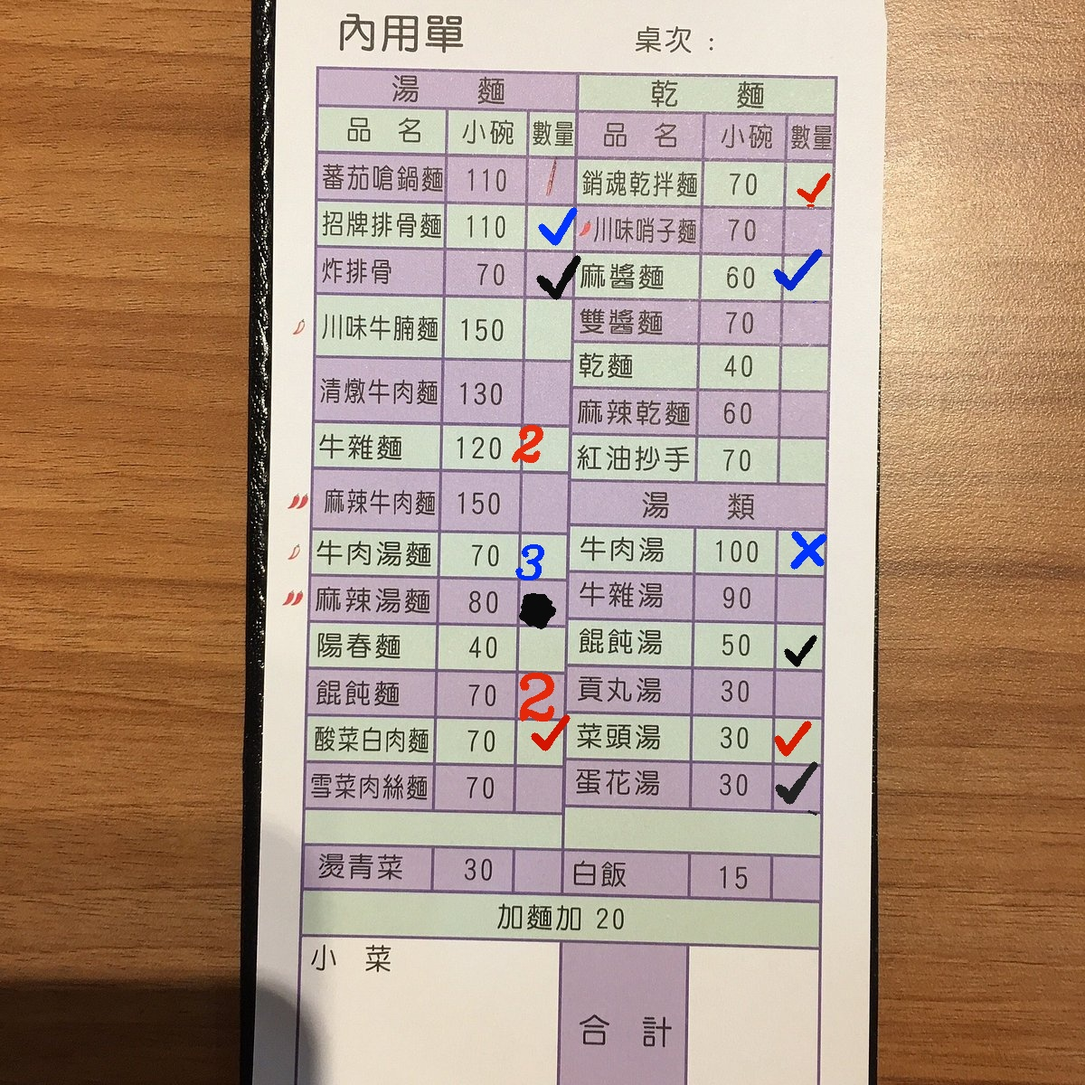marked_circle: (517, 580, 565, 626)
marked_number_2: (520, 426, 568, 472), (517, 670, 565, 716)
marked_number_3: (519, 532, 567, 578)
marked_tick: (525, 203, 573, 250), (772, 716, 820, 762), (516, 716, 564, 762), (525, 251, 573, 297), (786, 159, 834, 205), (772, 765, 820, 811), (780, 255, 828, 301), (775, 623, 823, 669)
marked_x: (777, 529, 825, 575)
